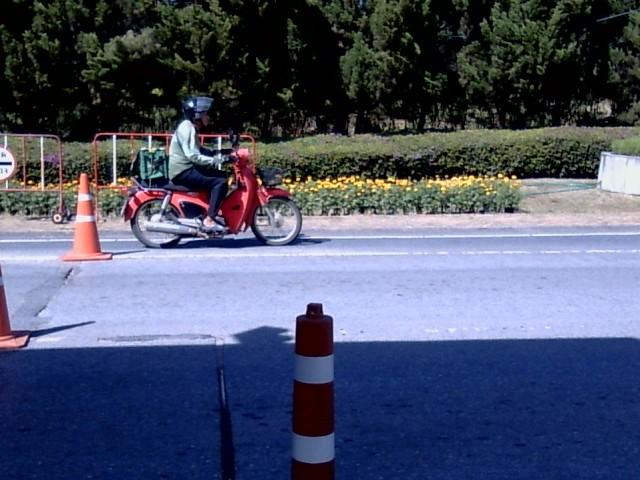helmet: (185, 96, 212, 125)
motor: (120, 135, 301, 247)
person: (168, 97, 229, 230)
